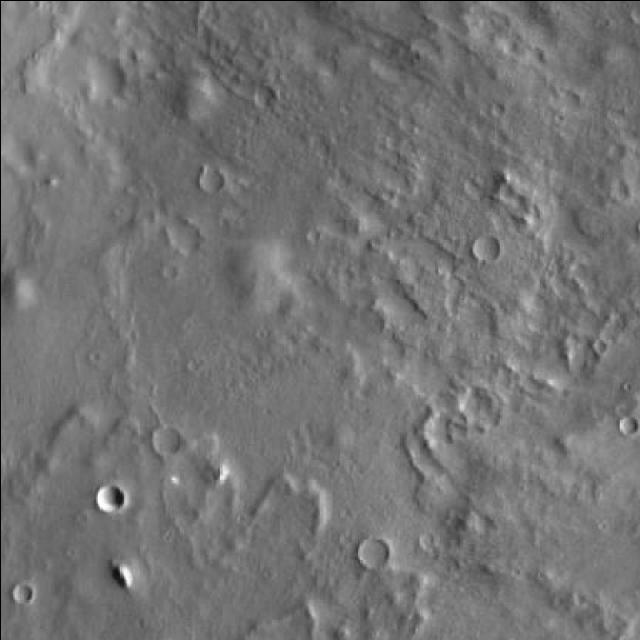crater: (358, 538, 390, 570), (96, 482, 125, 510), (152, 424, 180, 452), (198, 167, 224, 190), (471, 236, 495, 260), (248, 86, 272, 108), (12, 582, 30, 604), (160, 264, 177, 280), (618, 416, 634, 433), (638, 234, 640, 251)
